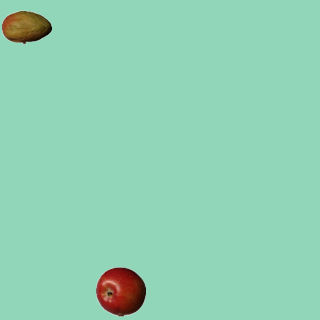Apple Braeburn: (95, 266, 145, 316)
Papaya: (1, 2, 51, 52)
